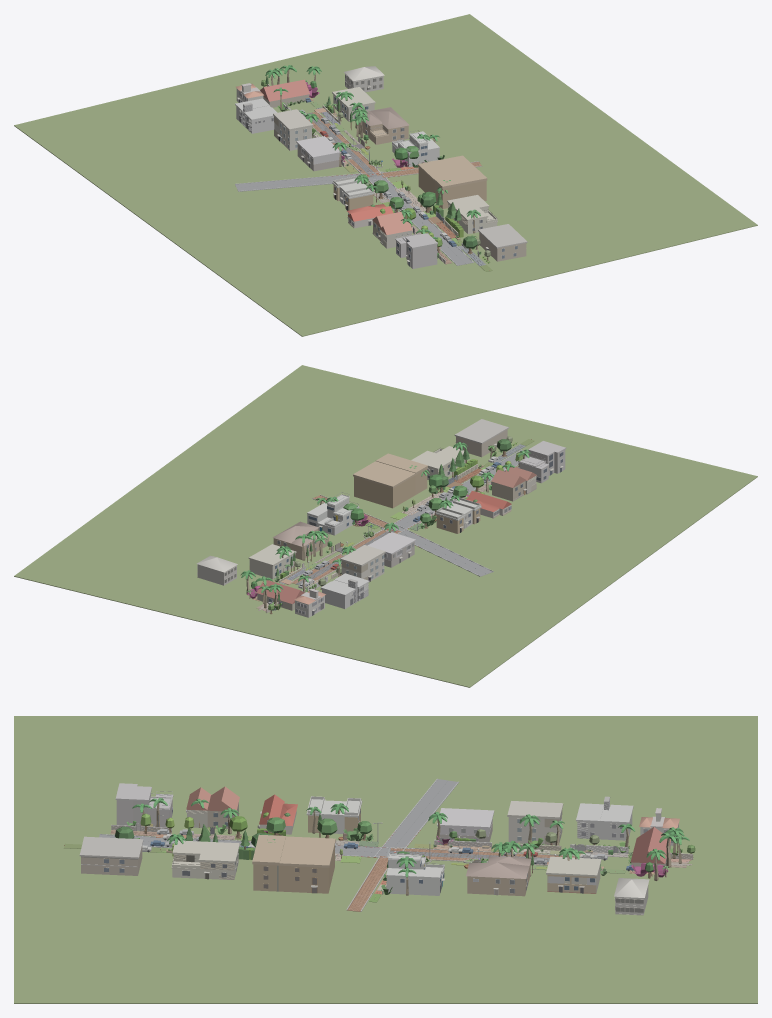
File: world_test3.glb
The picture shows the model from 3 angles, top to bottom: view 1: azimuth 30°, elevation 25°; view 2: azimuth 150°, elevation 25°; view 3: azimuth 270°, elevation 25°; orthographic projection. The views are drawn at different scales.
Size of the model in its own units: 210 by 11.8 by 230.
